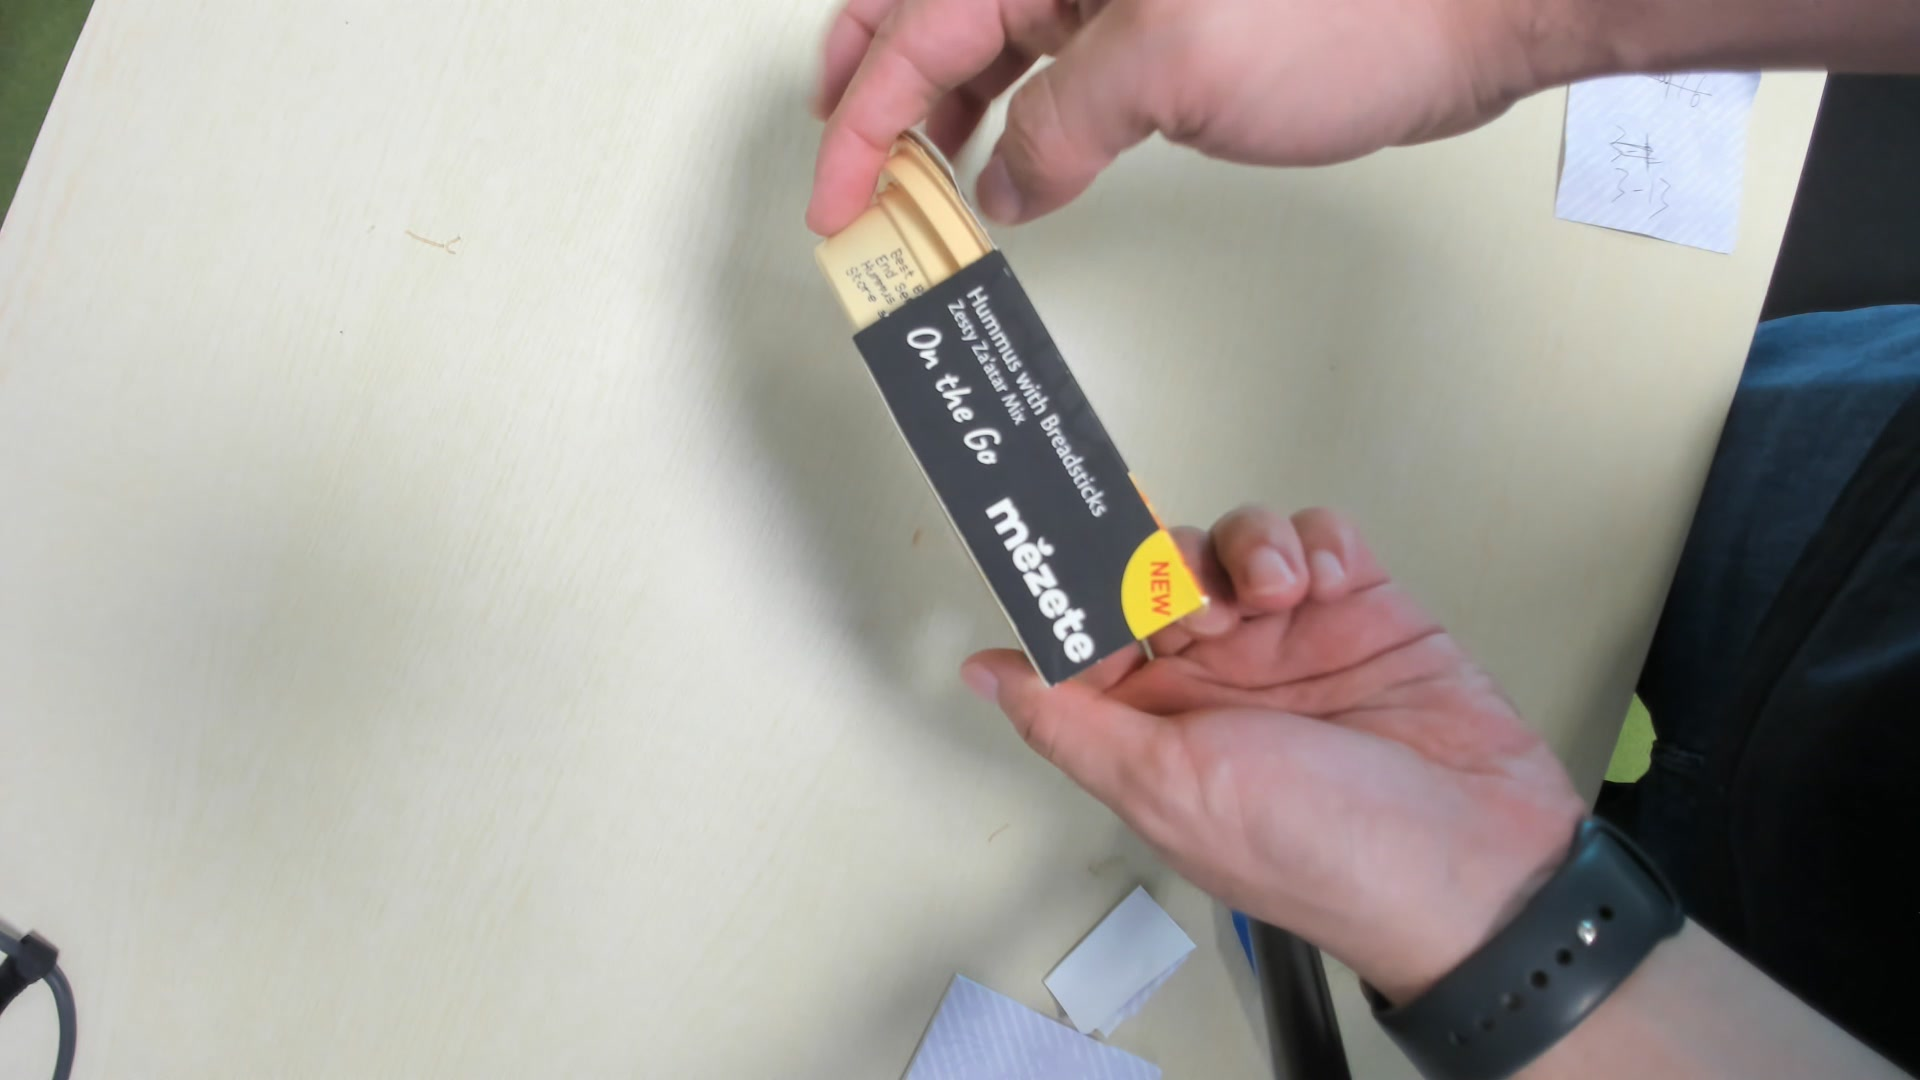InstantMeals_0-99g_NonHalal_NonHealthy: (816, 123, 1207, 702)
